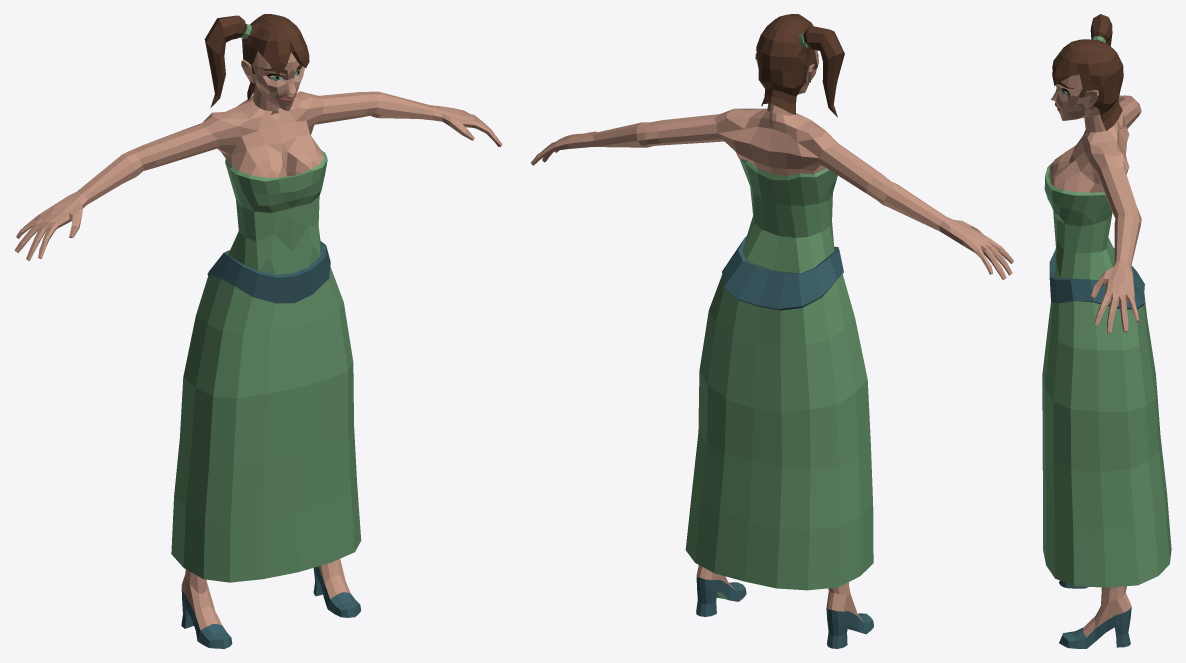
File: Dress_F_1.fbx
3 renders of one model, left to right at view 1: azimuth 30°, elevation 25°; view 2: azimuth 150°, elevation 25°; view 3: azimuth 270°, elevation 25°, orthographic. The views are drawn at different scales.
Parts seen in each view (by area): view 1: Dress_F_1; view 2: Dress_F_1; view 3: Dress_F_1.
Boxes of the visible parts, x1,y1,x2,y2 form: Dress_F_1: [14, 14, 502, 648]; Dress_F_1: [531, 14, 1013, 648]; Dress_F_1: [1042, 14, 1171, 648].
Size of the model in its own units: 149 by 181 by 36.67.
1 material, 1 textured.
